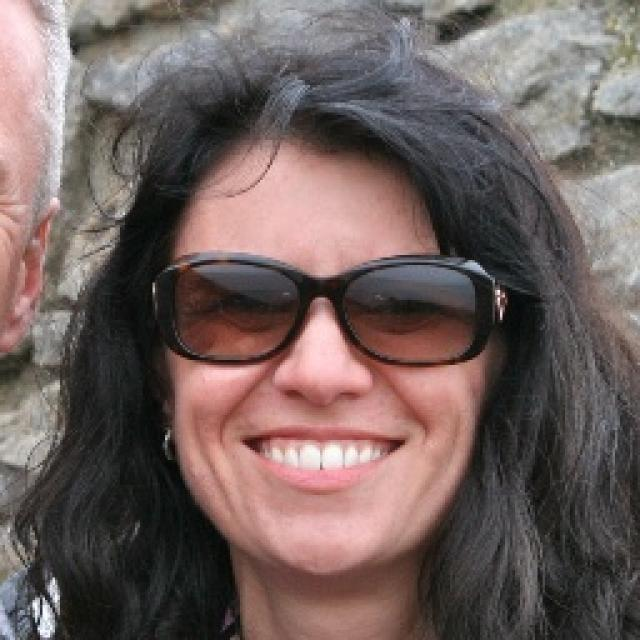earlobe: (0, 313, 23, 361), (158, 407, 179, 449)
eye: (370, 289, 447, 328), (208, 287, 285, 325)
nose: (274, 389, 372, 418)
wholeear: (2, 196, 68, 353)
